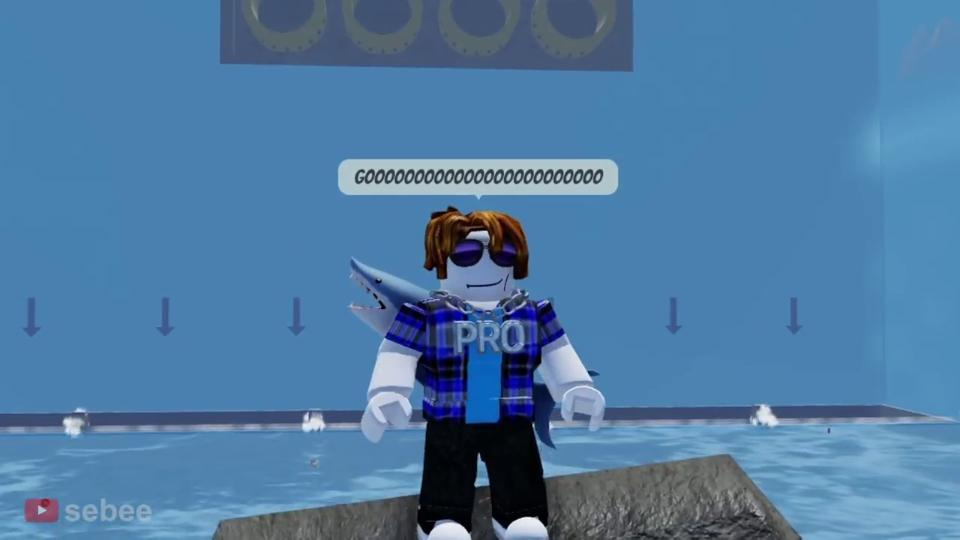Character: (360, 205, 605, 540)
